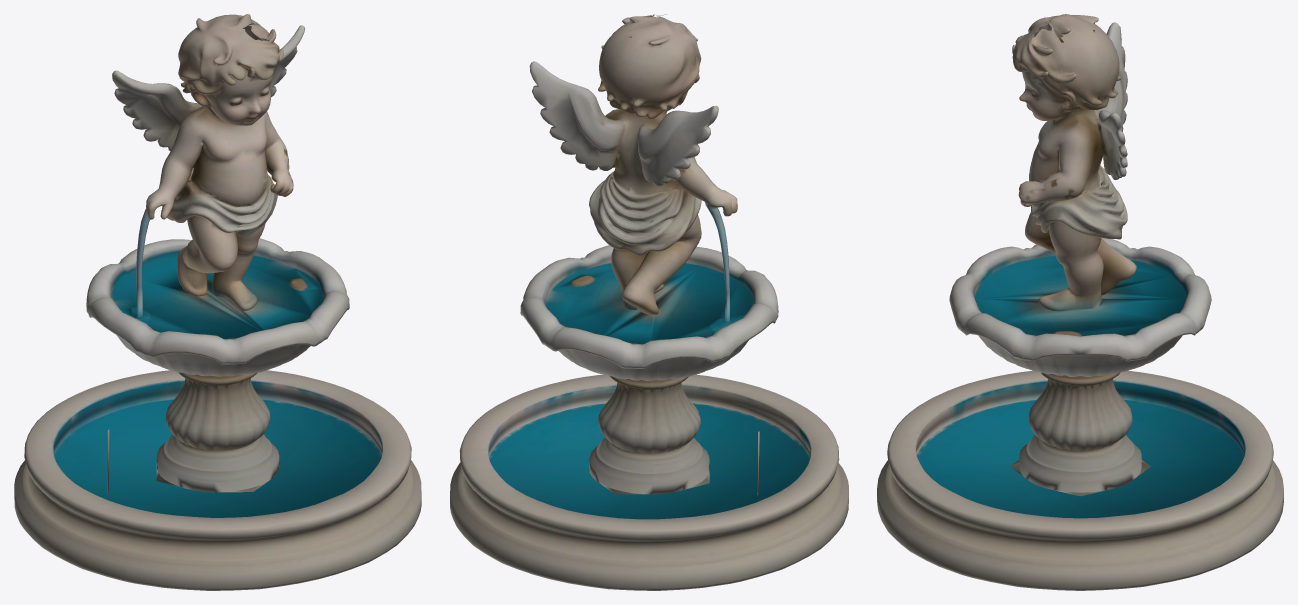
Rendered from cherub_fountain_8d21b49f_v4.glb.
3 views of the same model, side by side, from view 1: azimuth 30°, elevation 25°; view 2: azimuth 150°, elevation 25°; view 3: azimuth 270°, elevation 25° (orthographic). The views are drawn at different scales.
Visible parts, largest first — view 1: mesh_input; view 2: mesh_input; view 3: mesh_input.
Part boxes in pixels (bbox=[...]): mesh_input: bbox=[14, 14, 421, 590]; mesh_input: bbox=[450, 14, 848, 590]; mesh_input: bbox=[877, 14, 1283, 590].
Bounding box in the file's own units: 1.43 × 1.9 × 1.43.
1 material, 1 textured.
